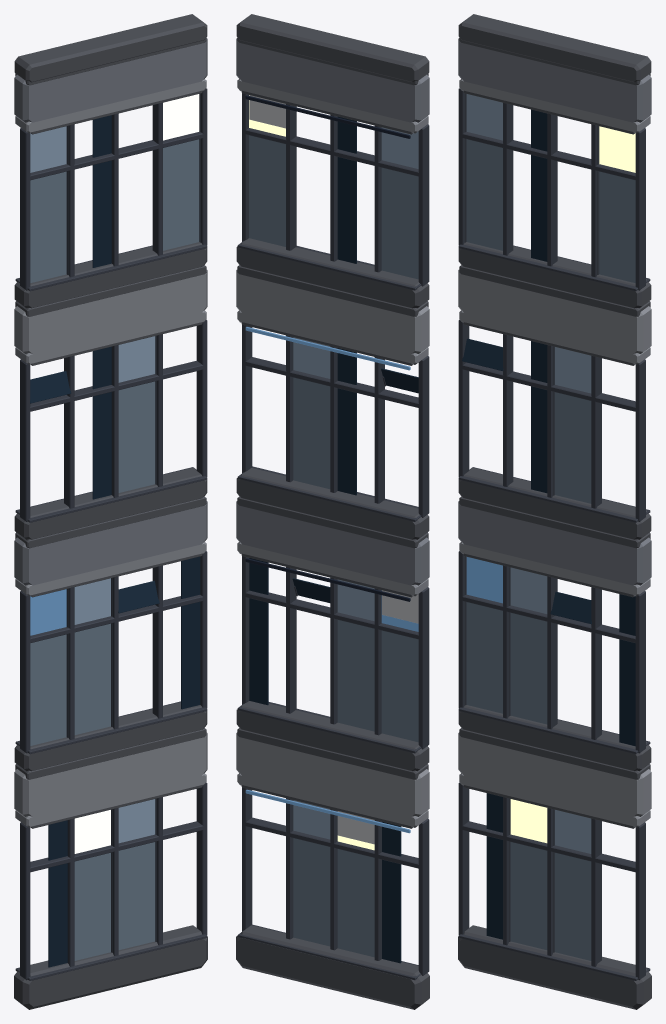
The model's file is spire_facade.glb.
3 renders of one model, left to right at view 1: azimuth 30°, elevation 25°; view 2: azimuth 150°, elevation 25°; view 3: azimuth 330°, elevation 25°, orthographic.
Visible parts, largest first — view 1: spire_facade, spire_facade_spandrel0, spire_facade_spandrel1, spire_facade_spandrel2, spire_facade_spandrel3, spire_facade_plinth, spire_facade_parapet, spire_facade_sill2, spire_facade_sill3, spire_facade_sill1, spire_facade_pane2_2_lo, spire_facade_pane1_0_lo (+32 smaller); view 2: spire_facade, spire_facade_plinth, spire_facade_spandrel0, spire_facade_spandrel1, spire_facade_spandrel2, spire_facade_spandrel3, spire_facade_parapet, spire_facade_sill2, spire_facade_sill1, spire_facade_sill3, spire_facade_pane1_1_lo, spire_facade_pane2_2_lo (+33 smaller); view 3: spire_facade, spire_facade_spandrel0, spire_facade_spandrel1, spire_facade_spandrel2, spire_facade_spandrel3, spire_facade_plinth, spire_facade_parapet, spire_facade_sill2, spire_facade_sill3, spire_facade_sill1, spire_facade_pane1_1_lo, spire_facade_pane1_0_lo (+32 smaller).
Boxes of the visible parts, x1,y1,x2,y2 form: spire_facade: (20,88,207,980); spire_facade_spandrel0: (14,732,207,816); spire_facade_spandrel1: (14,501,207,585); spire_facade_spandrel2: (14,270,207,353); spire_facade_spandrel3: (14,38,207,122); spire_facade_plinth: (14,925,207,1009); spire_facade_parapet: (14,14,207,82); spire_facade_sill2: (14,467,207,539); spire_facade_sill3: (14,242,207,308); spire_facade_sill1: (14,702,207,771); spire_facade_pane2_2_lo: (118,381,155,492); spire_facade_pane1_0_lo: (30,634,66,745); spire_facade: (242,93,429,975); spire_facade_plinth: (236,925,429,1009); spire_facade_spandrel0: (236,732,429,816); spire_facade_spandrel1: (236,501,429,585); spire_facade_spandrel2: (236,270,429,353); spire_facade_spandrel3: (236,38,429,122); spire_facade_parapet: (236,14,429,82); spire_facade_sill2: (236,468,429,539); spire_facade_sill1: (236,701,429,771); spire_facade_sill3: (236,238,429,308); spire_facade_pane1_1_lo: (337,620,374,731); spire_facade_pane2_2_lo: (293,377,330,489); spire_facade: (458,88,645,980); spire_facade_spandrel0: (458,732,651,816); spire_facade_spandrel1: (458,501,651,585); spire_facade_spandrel2: (458,270,651,353); spire_facade_spandrel3: (458,38,651,122); spire_facade_plinth: (458,925,651,1009); spire_facade_parapet: (458,14,651,82); spire_facade_sill2: (458,467,651,539); spire_facade_sill3: (458,242,651,308); spire_facade_sill1: (458,705,651,771); spire_facade_pane1_1_lo: (510,613,547,724); spire_facade_pane1_0_lo: (466,602,502,713).
Size of the model in its own units: 8.38 by 40.9 by 1.15.
